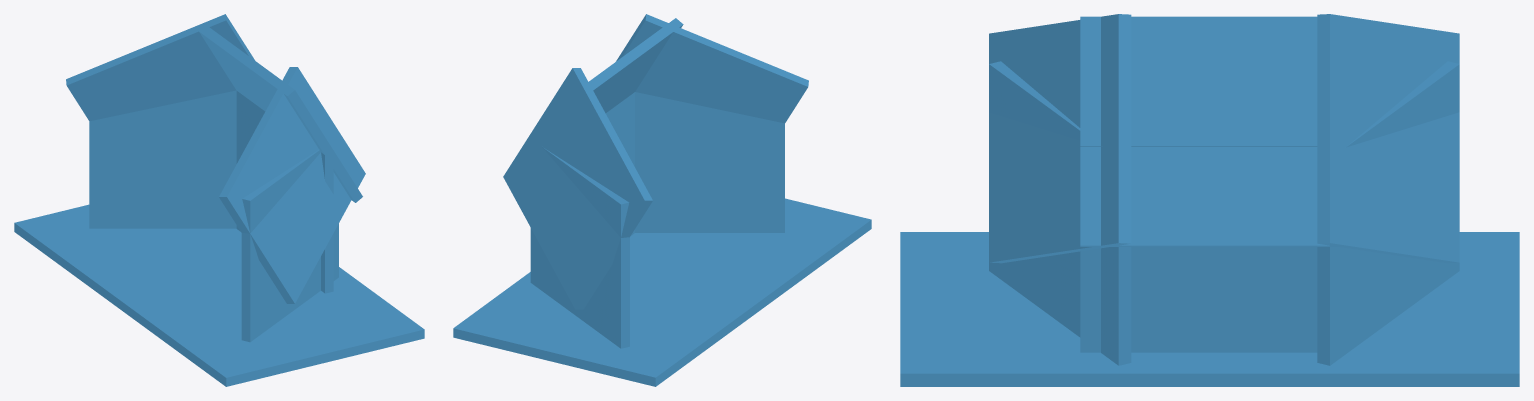
File: background.glb
3 views of the same model, side by side, from view 1: azimuth 30°, elevation 25°; view 2: azimuth 150°, elevation 25°; view 3: azimuth 270°, elevation 25° (orthographic). The views are drawn at different scales.
Visible parts, largest first — view 1: 立方体.008, 立方体.001, 立方体.005, 立方体.006, 立方体.002, 立方体.003, 立方体.007; view 2: 立方体.008, 立方体.002, 立方体.006, 立方体.005, 立方体.001, 立方体.003, 立方体.007; view 3: 立方体.008, 立方体.003, 立方体.006, 立方体.005, 立方体.007, 立方体.001, 立方体.002.
Part boxes in pixels (x1,y1,x2,y2): 立方体.008: (14,204,424,386); 立方体.001: (89,90,236,228); 立方体.005: (219,67,365,303); 立方体.006: (66,14,254,121); 立方体.002: (241,149,338,342); 立方体.003: (199,25,362,202); 立方体.007: (236,91,333,293); 立方体.008: (453,198,871,386); 立方体.002: (635,92,784,232); 立方体.006: (503,68,652,309); 立方体.005: (616,14,808,123); 立方体.001: (530,147,629,348); 立方体.003: (586,18,683,113); 立方体.007: (605,92,634,235); 立方体.008: (900,232,1519,386); 立方体.003: (1080,16,1339,246); 立方体.006: (1317,14,1459,263); 立方体.005: (989,14,1131,263); 立方体.007: (1080,145,1317,352); 立方体.001: (1317,61,1459,365); 立方体.002: (989,61,1131,365).
Bounding box in the file's own units: 49.38 × 50.53 × 84.47.
